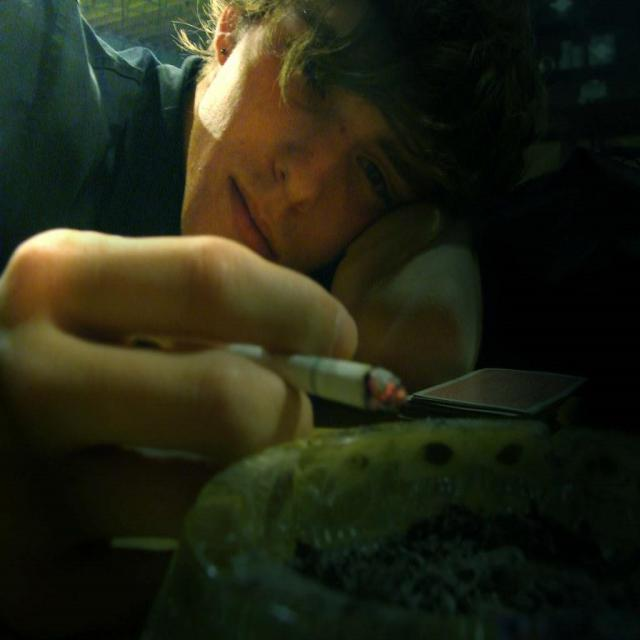Сигарета: (226, 332, 408, 406)
Тело: (11, 6, 346, 422)
